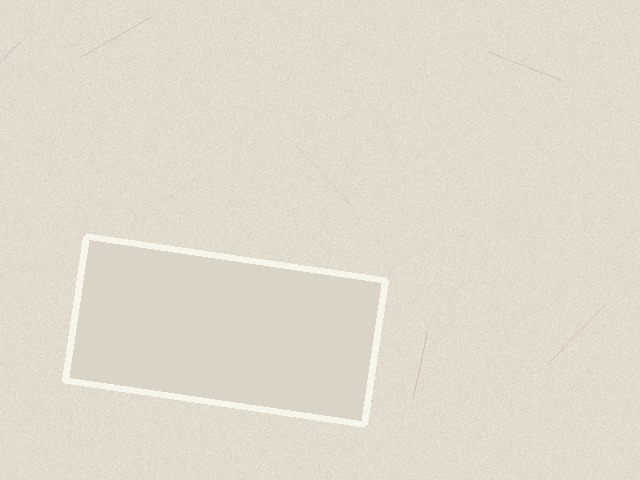parking_area: (65, 236, 385, 424)
